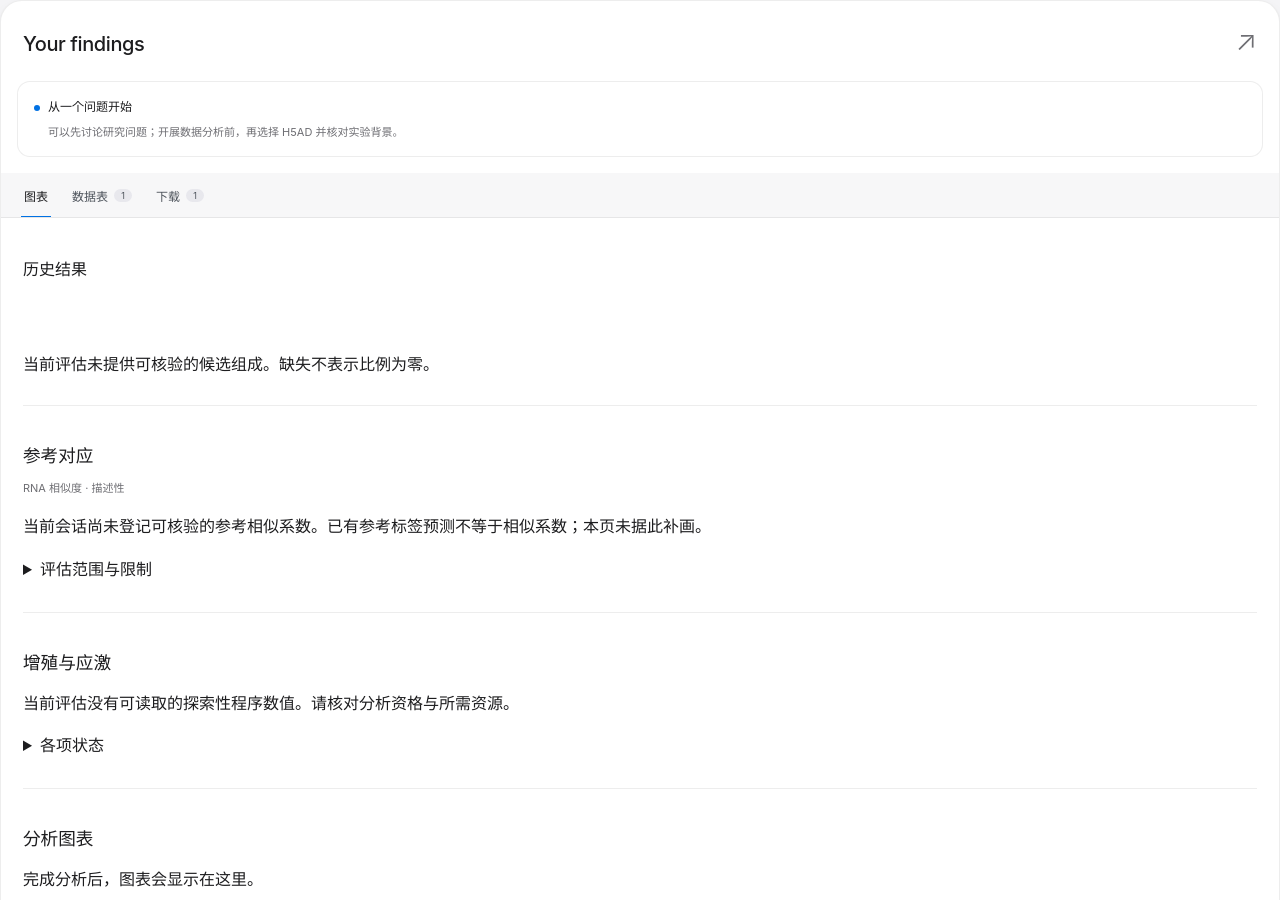
Test: ResultsPane › shows the file's real column names, adding a known name without replacing it
Click the tab "数据表 1" at (102, 195), box [69, 173, 135, 217]
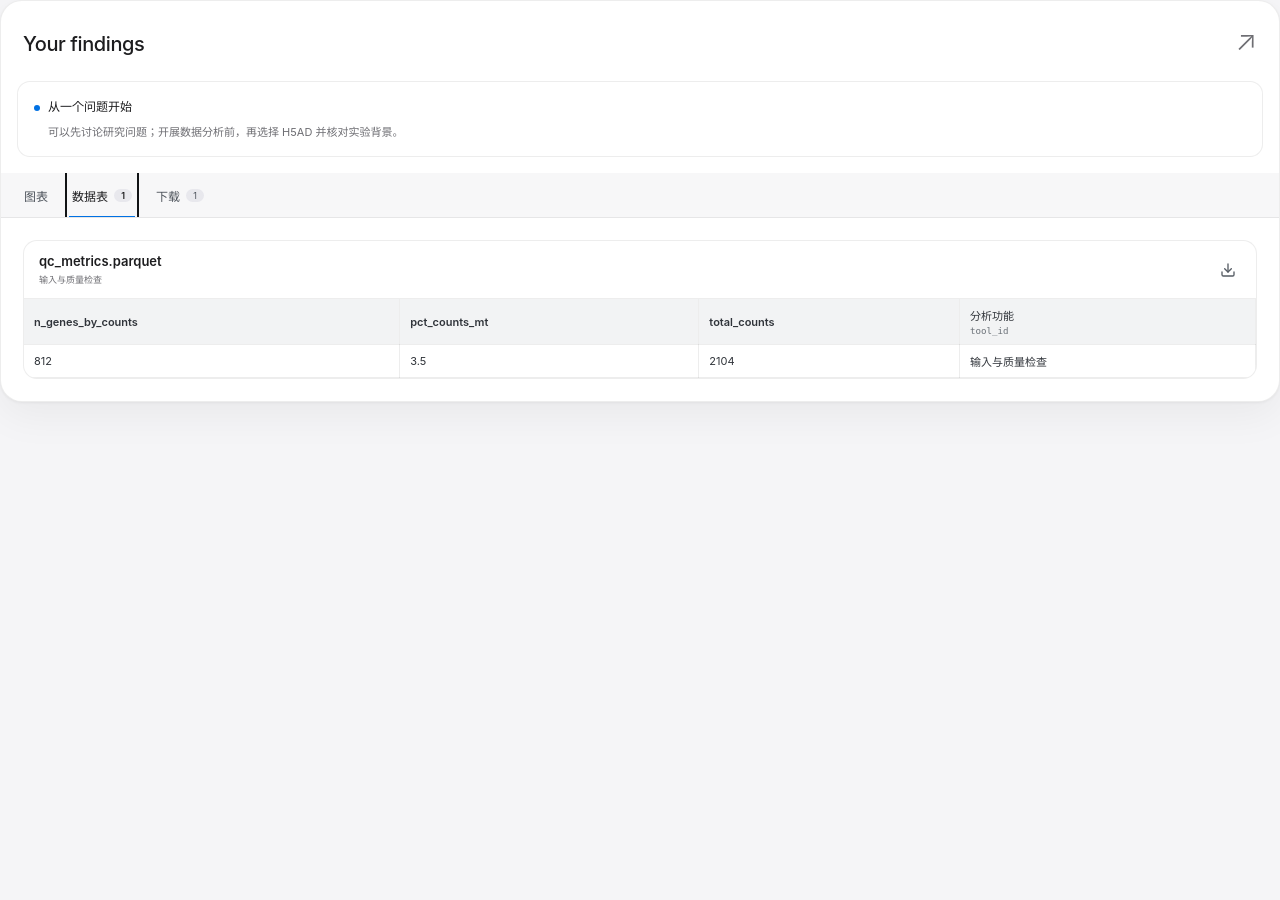
Expected: the column heading "n_genes_by_counts" is shown, [24, 299, 400, 345]
Expected: the column heading "pct_counts_mt" is shown, [400, 299, 699, 345]
Expected: the column heading "total_counts" is shown, [699, 299, 960, 345]
